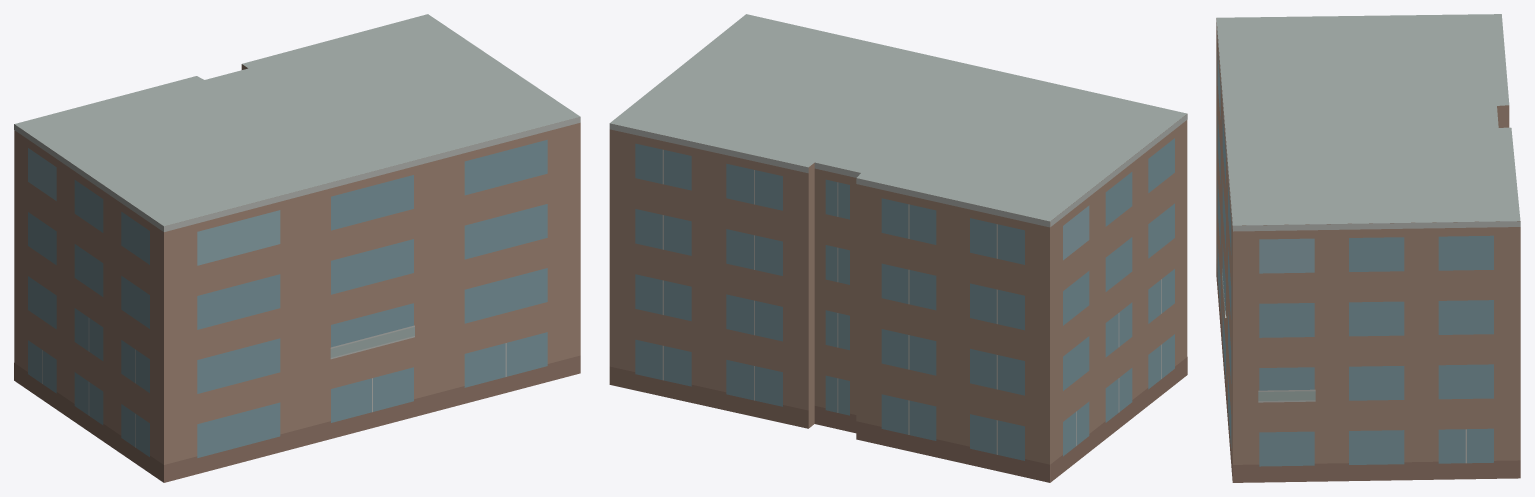
Rendered from survey-upis-32897773.glb.
The picture shows the model from 3 angles, left to right: view 1: azimuth 30°, elevation 25°; view 2: azimuth 150°, elevation 25°; view 3: azimuth 270°, elevation 25°; orthographic projection.
Visible parts, largest first — view 1: survey-upis-32897773.tmp; view 2: survey-upis-32897773.tmp; view 3: survey-upis-32897773.tmp.
Boxes of the visible parts, box(x1,y1,x2,y2) form: survey-upis-32897773.tmp: box(14, 14, 580, 482); survey-upis-32897773.tmp: box(609, 14, 1187, 482); survey-upis-32897773.tmp: box(1216, 14, 1520, 482).
Size of the model in its own units: 18.79 by 10.65 by 11.42.
